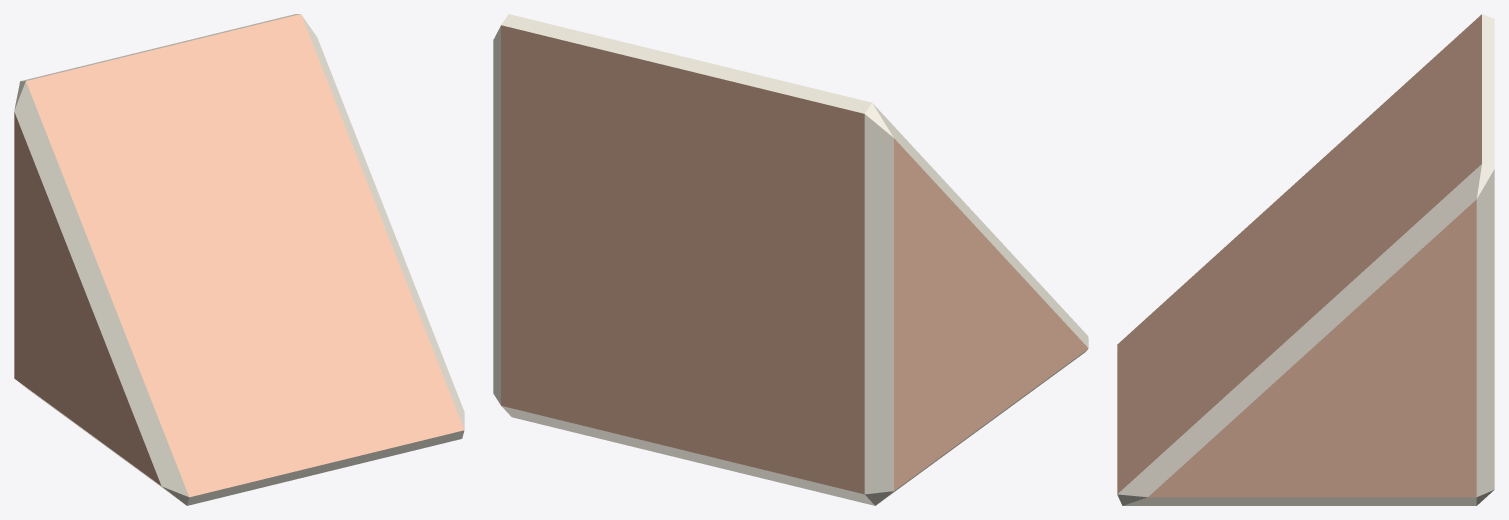
File: R4B_Wedge_LOD1.fbx
3 renders of one model, left to right at view 1: azimuth 30°, elevation 25°; view 2: azimuth 150°, elevation 25°; view 3: azimuth 270°, elevation 25°, orthographic. The views are drawn at different scales.
Parts seen in each view (by area): view 1: R4B_Wedge_LOD1; view 2: R4B_Wedge_LOD1; view 3: R4B_Wedge_LOD1.
Part boxes in pixels (<box>): R4B_Wedge_LOD1: <box>14,14,464,505</box>; R4B_Wedge_LOD1: <box>493,14,1088,505</box>; R4B_Wedge_LOD1: <box>1117,14,1494,505</box>.
Bounding box in the file's own units: 0.52 × 0.503 × 0.503.
